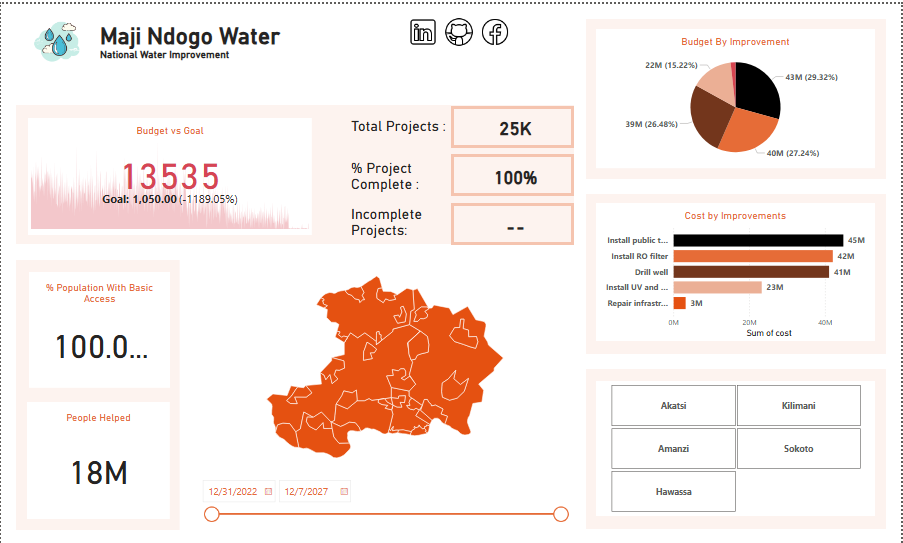

The page's visual inventory and layout, read from the dashboard file:
{"tool":"powerbi","page":{"name":"Population","canvas":[1500,901],"ordinal":0},"visuals":[{"type":"shape","box":[975,25,500,266.7],"z":0},{"type":"shape","box":[975,316.7,500,266.7],"z":1000},{"type":"shape","box":[975,608.3,500,266.7],"z":2000},{"type":"shape","box":[25,168.3,930,231.7],"z":3000},{"type":"shape","box":[25,426.7,273,450],"z":4000},{"type":"cardVisual","fields":{"Data":["project_progress.pct_project_complete"]},"box":[750,250,205,70],"z":5000},{"type":"cardVisual","fields":{"Data":["project_progress.total_incomplete_projects"]},"box":[750,331.7,205,70],"z":6000},{"type":"textbox","box":[578.3,240,171.7,91.7],"z":7000},{"type":"textbox","box":[578.3,316.7,171.7,85],"z":8000},{"type":"textbox","box":[160,25,330,101.7],"z":9000},{"type":"image","box":[25,11.7,135,101.7],"z":10000},{"type":"cardVisual","fields":{"Data":["project_progress.total_improvements"]},"box":[750,170,205,70],"z":11000},{"type":"textbox","box":[578.3,170,171.7,70],"z":12000},{"type":"slicer","title":"Date of completion","fields":{"Values":["date.Year"]},"box":[313.3,786.7,641.7,90],"z":13000},{"type":"cardVisual","title":"% Population With Basic Access","fields":{"Data":["water_source.pct_population_now_basic_access"]},"box":[46.7,446.7,235,193.3],"z":14000},{"type":"kpi","title":"Budget vs Goal","fields":{"Indicator":["project_progress.cumulative_cost"],"Goal":["project_progress.cumulative_budget"],"TrendLine":["project_progress.date_of_completion"]},"box":[45,190,473.3,195],"z":15000},{"type":"slicer","fields":{"Values":["location.province_name"]},"box":[991.7,628.3,465,225],"z":16000},{"type":"pieChart","title":"Budget By Improvement","fields":{"Category":["project_progress.aggregated_improvements"],"Y":["Sum(project_progress.budgeted_improvement_cost)"]},"box":[991.7,41.7,465,231.7],"z":17000},{"type":"clusteredBarChart","title":"Cost by Improvements","fields":{"Category":["project_progress.aggregated_improvements"],"Y":["Sum(project_progress.cost)"]},"box":[991.7,331.7,465,230],"z":18000},{"type":"cardVisual","title":"People Helped","fields":{"Data":["water_source.population_now_basic_access"]},"box":[43.3,663.3,238.3,195],"z":19000},{"type":"shapeMap","fields":{"Value":["project_progress.pct_project_complete"],"Category":["location.town_name"]},"box":[325,426.7,630,356.7],"z":20000},{"type":"image","box":[673.3,16.7,60,60],"z":20001},{"type":"image","box":[733.3,16.7,60,60],"z":20002},{"type":"image","box":[793.3,16.7,60,60],"z":20003}]}

Visuals, with their boxes in screenshot pixels (x1, y1, x2, y2), scaled from the page's 1500x901 canvas onto the 903x543 screenshot:
shape: crop(587, 15, 888, 176)
shape: crop(587, 191, 888, 352)
shape: crop(587, 367, 888, 527)
shape: crop(15, 101, 575, 241)
shape: crop(15, 257, 179, 528)
cardVisual - project_progress.pct_project_complete: crop(452, 151, 575, 193)
cardVisual - project_progress.total_incomplete_projects: crop(452, 200, 575, 242)
textbox: crop(348, 145, 452, 200)
textbox: crop(348, 191, 452, 242)
textbox: crop(96, 15, 295, 76)
image: crop(15, 7, 96, 68)
cardVisual - project_progress.total_improvements: crop(452, 102, 575, 145)
textbox: crop(348, 102, 452, 145)
"Date of completion" slicer: crop(189, 474, 575, 528)
"% Population With Basic Access" cardVisual: crop(28, 269, 170, 386)
"Budget vs Goal" kpi: crop(27, 115, 312, 232)
slicer - location.province_name: crop(597, 379, 877, 514)
"Budget By Improvement" pieChart: crop(597, 25, 877, 165)
"Cost by Improvements" clusteredBarChart: crop(597, 200, 877, 339)
"People Helped" cardVisual: crop(26, 400, 170, 517)
shapeMap - project_progress.pct_project_complete x location.town_name: crop(196, 257, 575, 472)
image: crop(405, 10, 441, 46)
image: crop(441, 10, 478, 46)
image: crop(478, 10, 514, 46)
